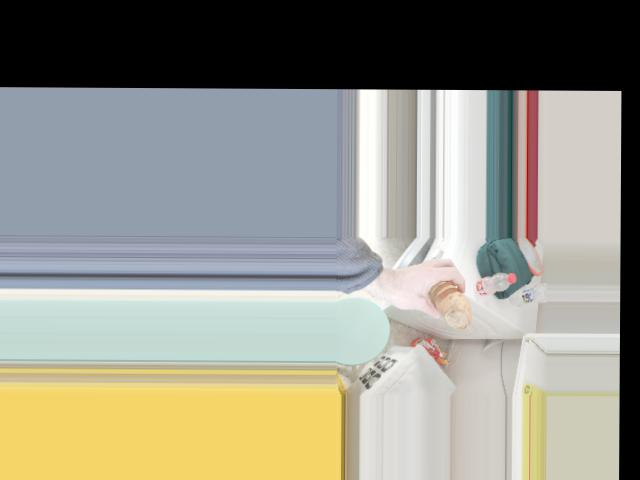sweet_potato: (429, 284, 474, 327)
